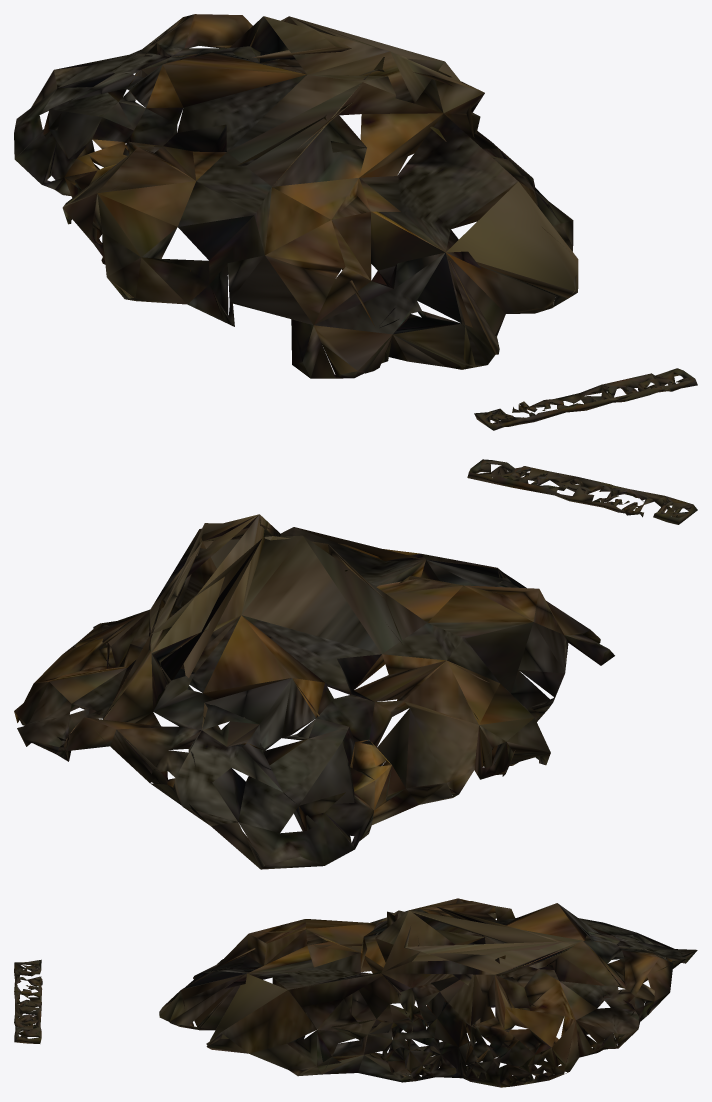
File: ferro_pantanoso_verden.glb
The picture shows the model from 3 angles, top to bottom: view 1: azimuth 30°, elevation 25°; view 2: azimuth 150°, elevation 25°; view 3: azimuth 270°, elevation 25°; orthographic projection. The views are drawn at different scales.
Visible parts, largest first — view 1: geometry_0; view 2: geometry_0; view 3: geometry_0.
Part boxes in pixels (left/top/right/bottom): geometry_0: left=14, top=14, right=697, bottom=430; geometry_0: left=14, top=459, right=697, bottom=869; geometry_0: left=14, top=898, right=697, bottom=1087.
Size of the model in its own units: 0.5209 by 0.2208 by 1.
1 material, 1 textured.
